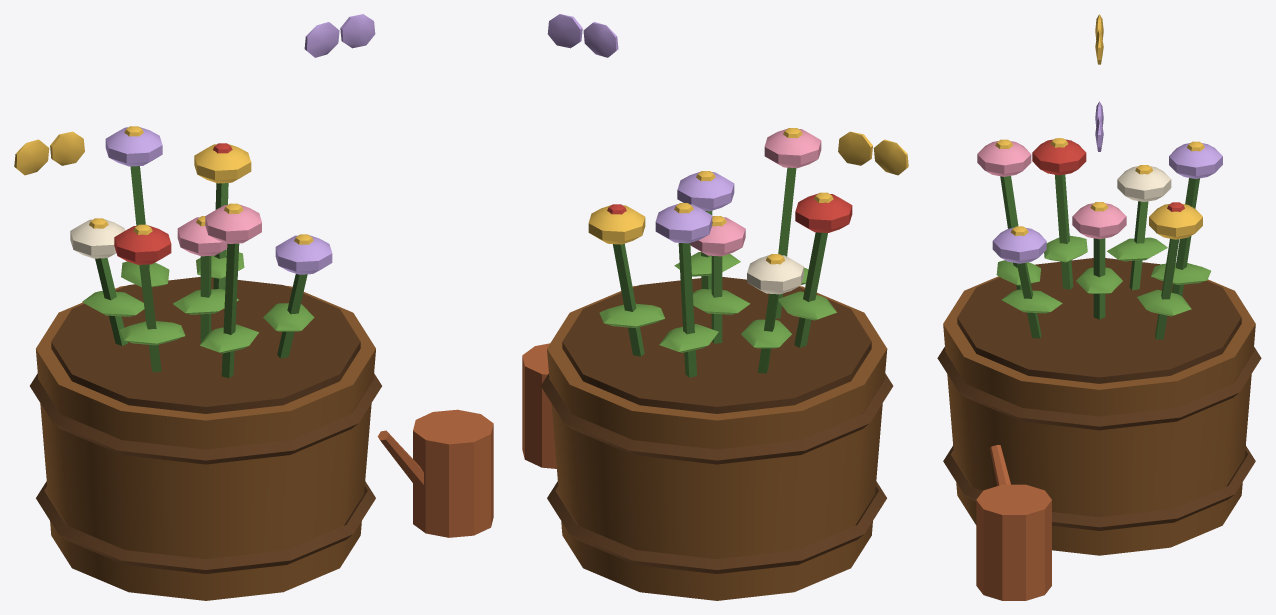
File: PR_Season_Bahar_Yigin.fbx
3 views of the same model, side by side, from view 1: azimuth 30°, elevation 25°; view 2: azimuth 150°, elevation 25°; view 3: azimuth 270°, elevation 25° (orthographic). The views are drawn at different scales.
Visible parts, largest first — view 1: PR_Season_Bahar_Yigin; view 2: PR_Season_Bahar_Yigin; view 3: PR_Season_Bahar_Yigin.
Part boxes in pixels (<box>): PR_Season_Bahar_Yigin: <box>14,14,493,600</box>; PR_Season_Bahar_Yigin: <box>522,14,908,600</box>; PR_Season_Bahar_Yigin: <box>937,14,1261,600</box>.
Size of the model in its own units: 0.9527 by 1.03 by 0.684.
